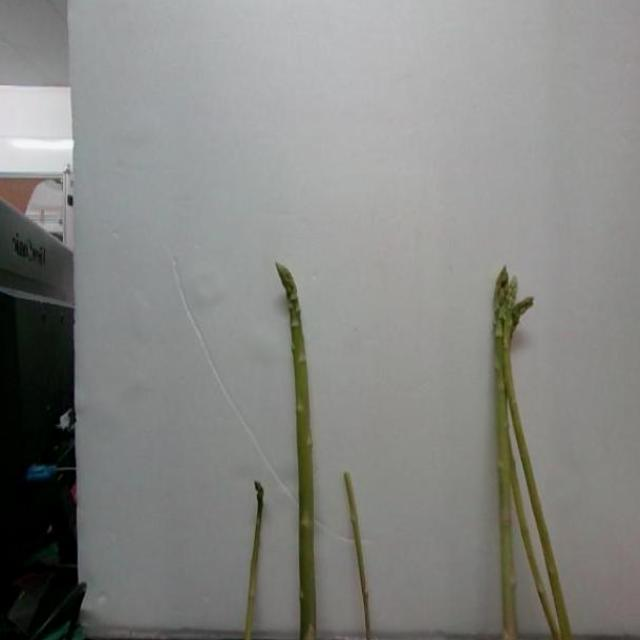aspargus: (275, 266, 316, 640), (492, 256, 522, 640)
